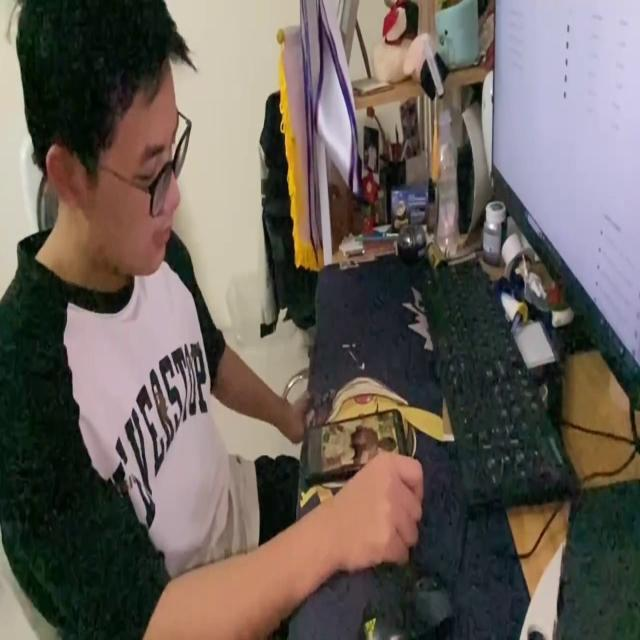laptop: (490, 0, 640, 425)
phone: (301, 408, 408, 479)
student: (1, 0, 426, 640)
